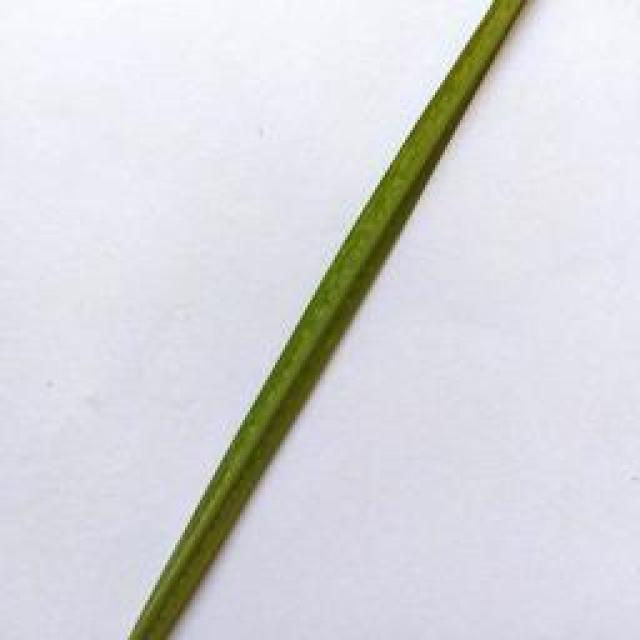Healthy-Plant: (130, 0, 527, 640)
